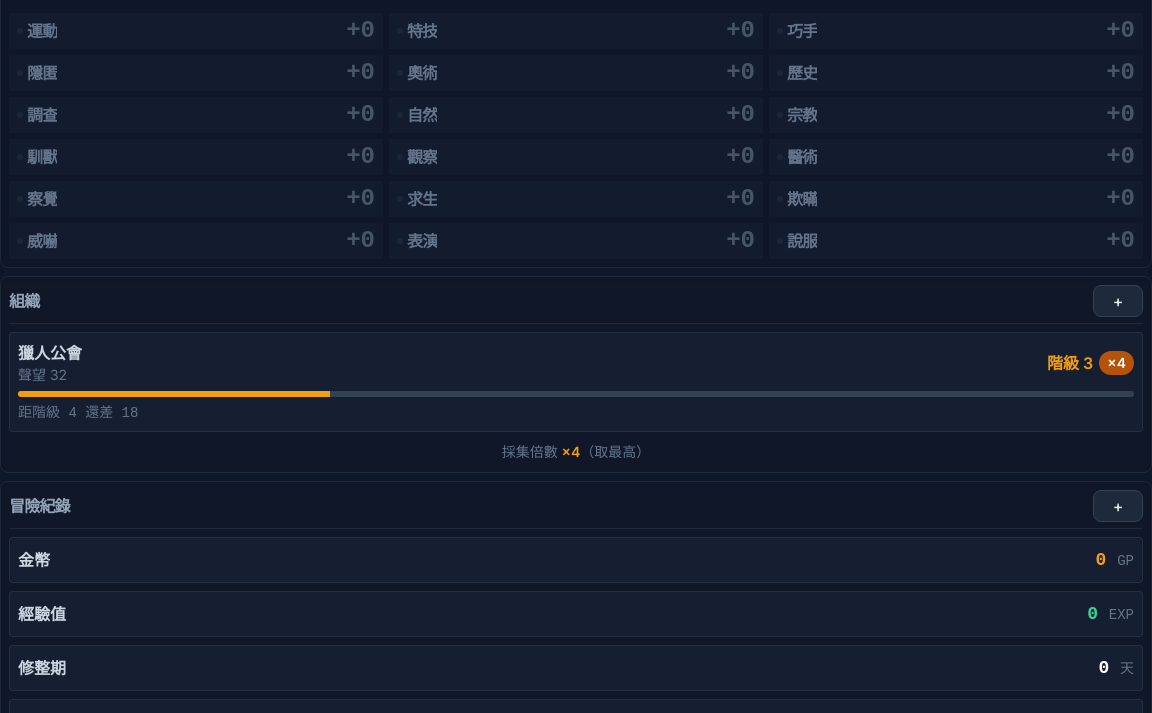
角色頁 - 聲望編輯彈窗 › 顯示素材倍數與階級門檻
(page scrolled)
Step 1. Click the text "獵人公會" → (50, 353), box [18,341,82,365]
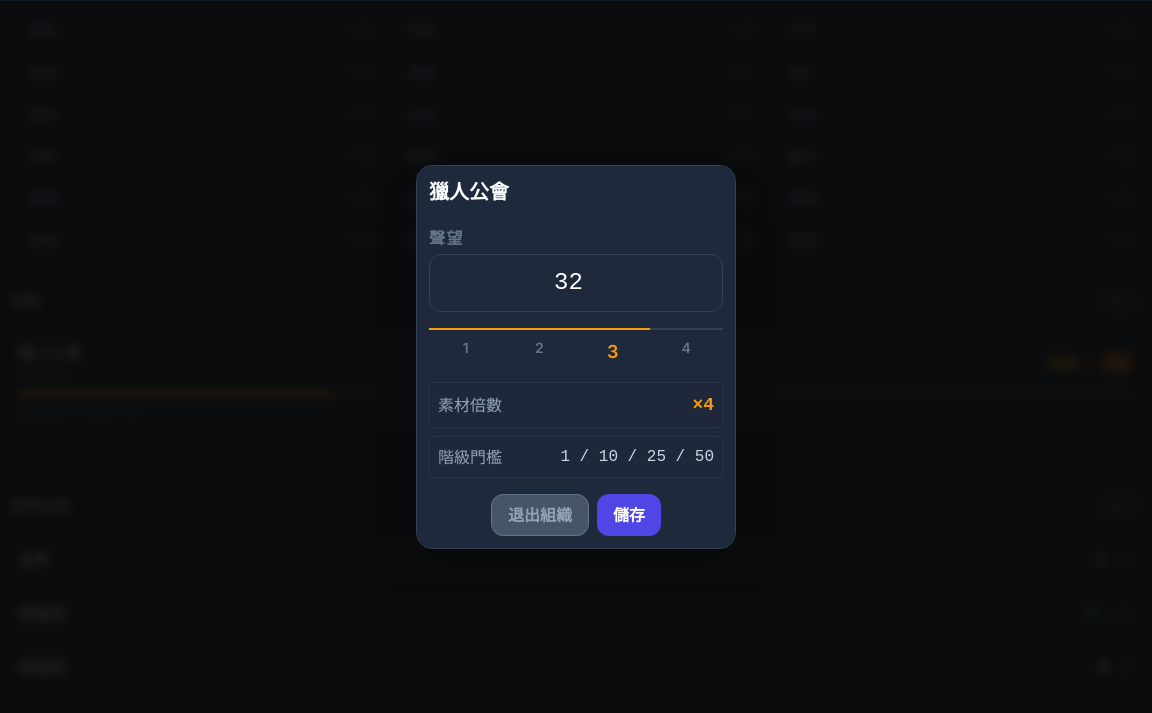
Result: the text "素材倍數" is shown at [438,393,502,417]
Result: the text "階級門檻" is shown at [438,445,502,469]
Result: the text "1 / 10 / 25 / 50" is shown at [560,445,714,469]
